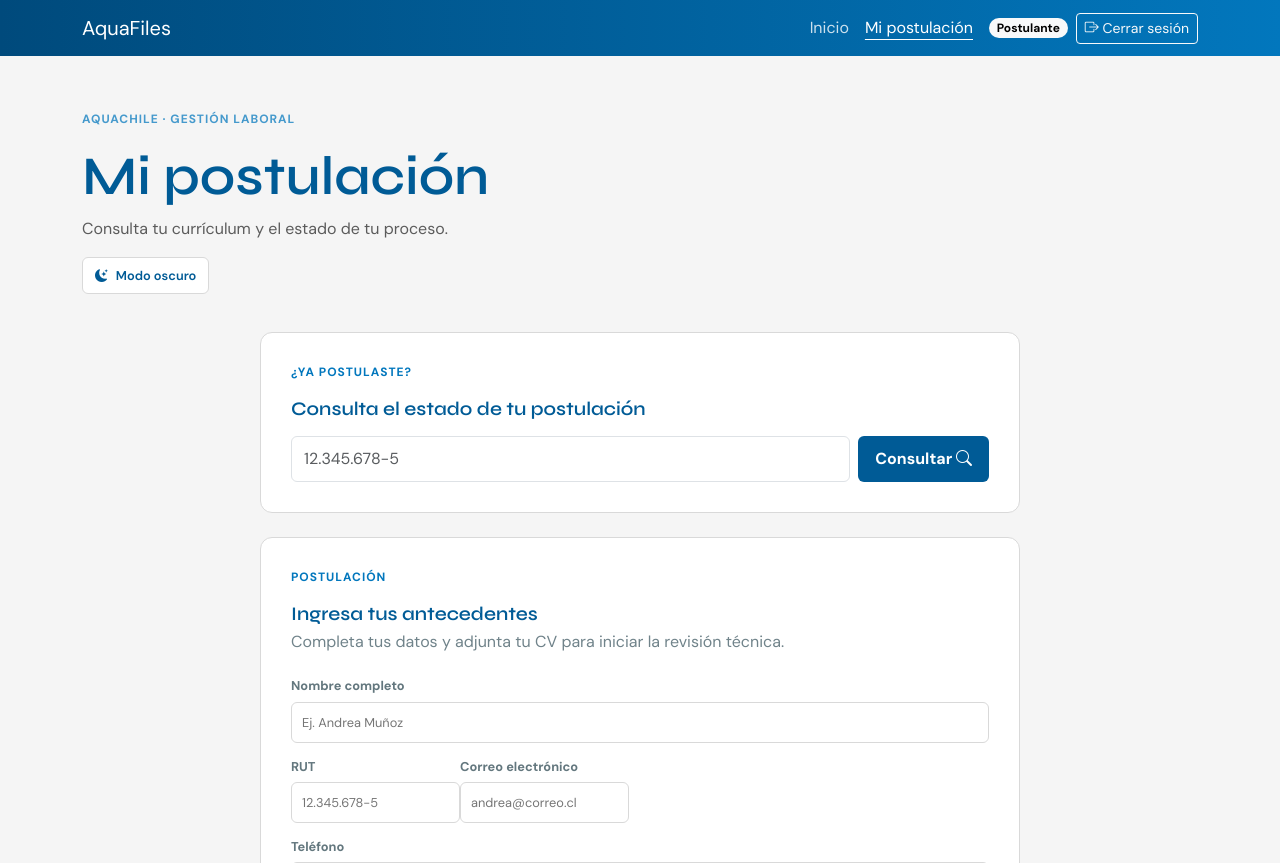
Test: Flujo del proceso › el postulante ve la fecha de su entrevista
Type "18.923.456-2" into the field named "rut de tu postulación" at [571, 459], box [291, 436, 850, 482]
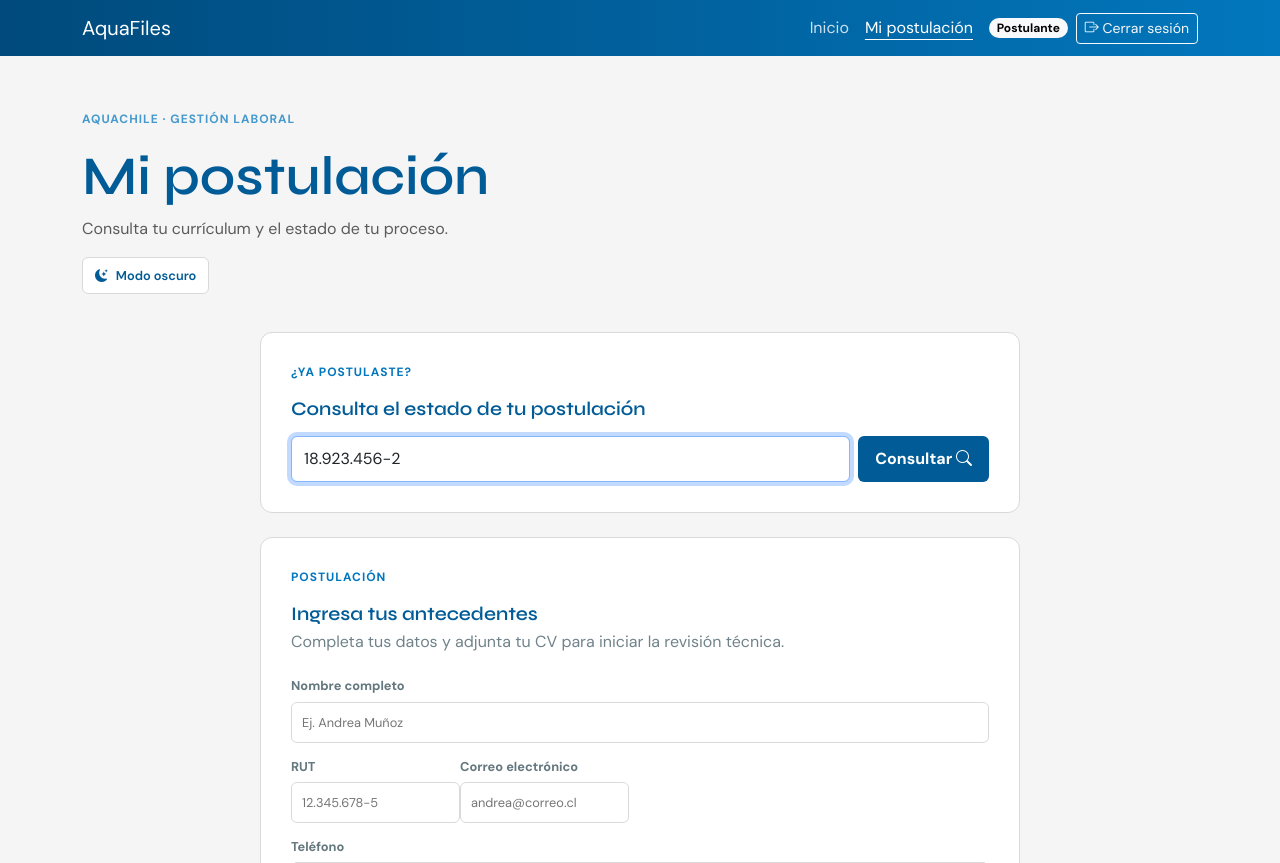
Click the button "Consultar" at [924, 459], box [858, 436, 989, 482]
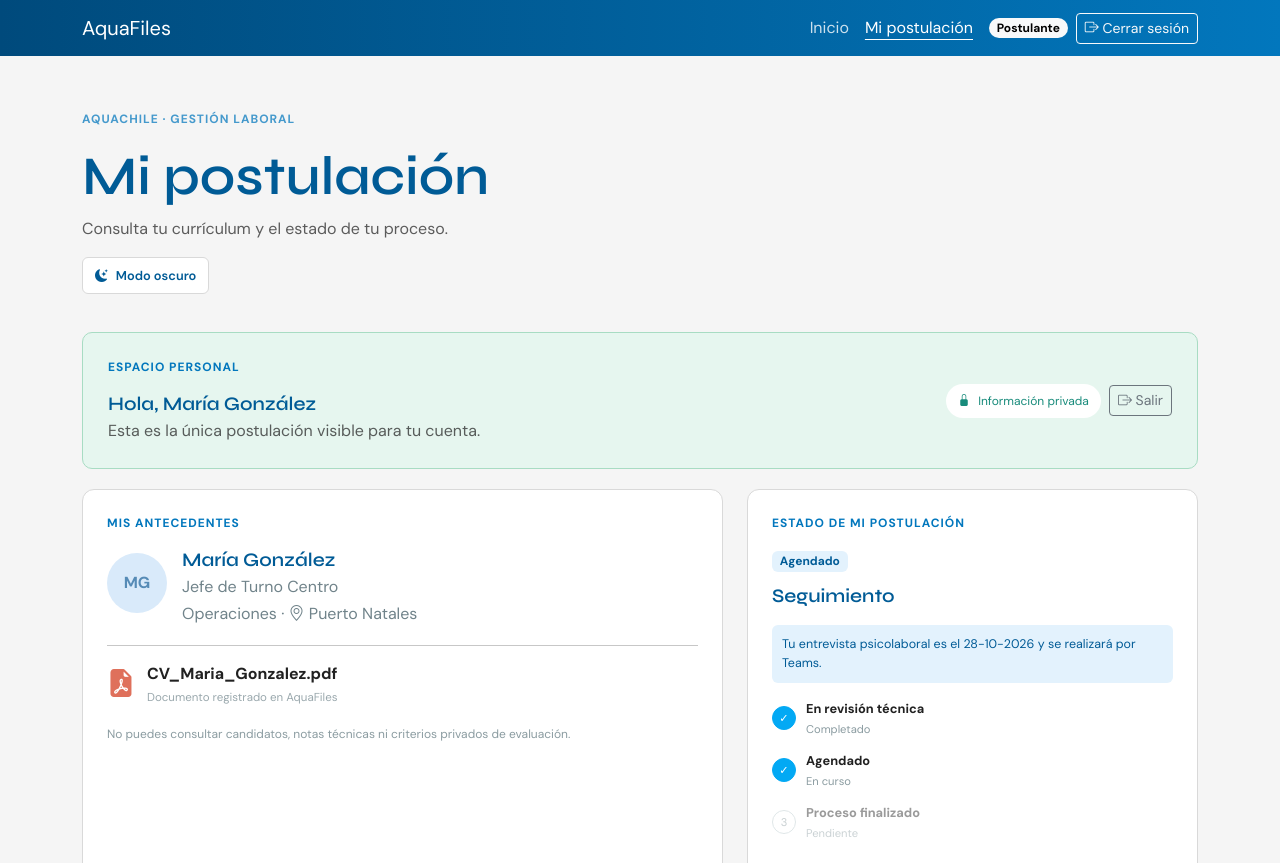
Now the text "28-10-2026" is shown, box [963, 636, 1034, 652]
